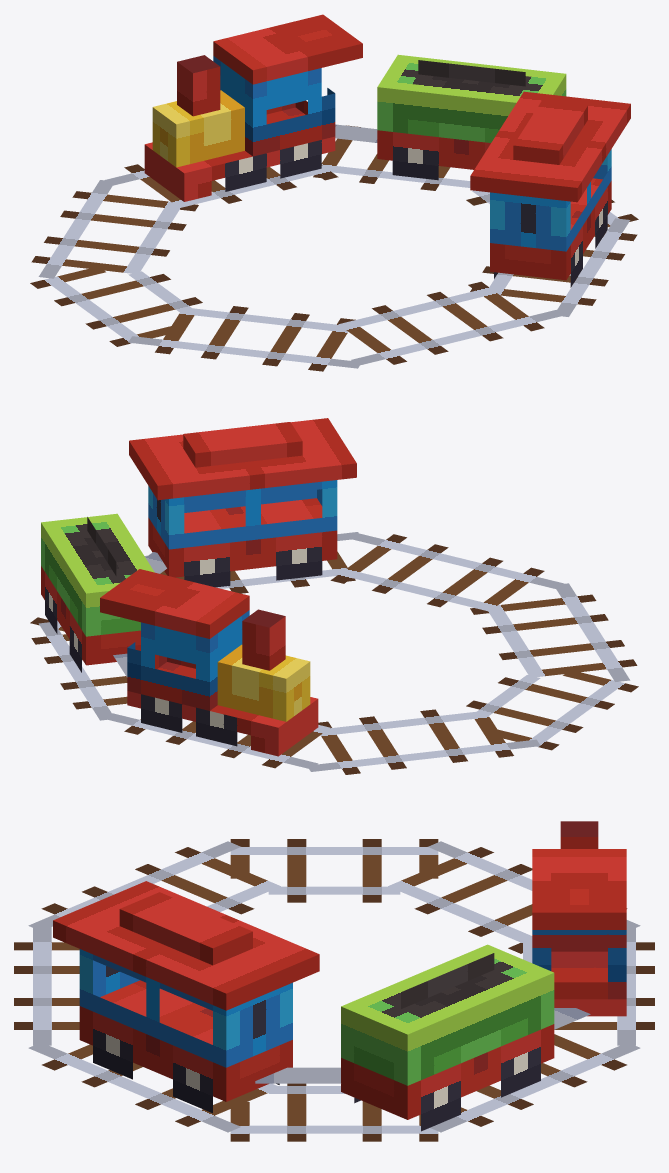
File: train-toy.gltf
3 views of the same model, one above another, from view 1: azimuth 30°, elevation 25°; view 2: azimuth 150°, elevation 25°; view 3: azimuth 270°, elevation 25° (orthographic). The views are drawn at different scales.
Parts seen in each view (by area): view 1: cube (×2); view 2: cube (×2); view 3: cube (×2).
Part boxes in pixels (x1,y1,x2,y2): cube (×2): (30, 14, 638, 371); cube (×2): (30, 418, 638, 774); cube (×2): (14, 821, 654, 1141).
Size of the model in its own units: 0.9591 by 0.2597 by 0.8553.
2 materials, 2 textured.
